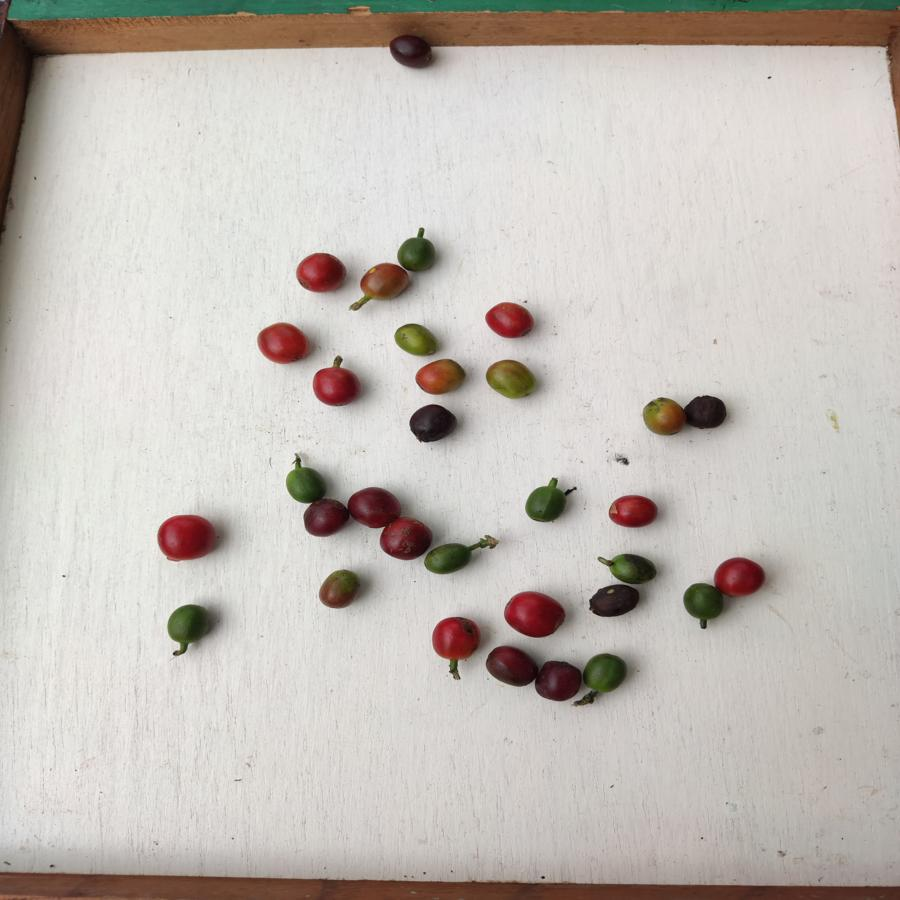Inmaduro: (582, 651, 630, 694), (166, 602, 211, 646), (680, 582, 722, 626), (608, 553, 661, 585), (523, 486, 565, 525), (282, 467, 327, 502), (425, 543, 472, 576), (396, 235, 438, 271)
Maduro: (502, 589, 567, 639), (157, 516, 219, 560), (480, 298, 540, 341), (311, 366, 361, 409), (294, 253, 347, 293), (258, 320, 307, 363), (430, 616, 480, 658), (715, 557, 766, 598), (607, 494, 659, 529)
Pinton: (485, 355, 538, 404), (415, 358, 469, 397), (638, 396, 686, 437), (316, 567, 361, 609), (359, 264, 410, 301), (390, 321, 440, 358)
Sobremaduro: (345, 487, 402, 530), (387, 32, 440, 76), (485, 644, 537, 687), (379, 518, 432, 560), (533, 659, 583, 703), (407, 402, 461, 441), (585, 583, 641, 620), (300, 498, 350, 537), (684, 391, 728, 430)
